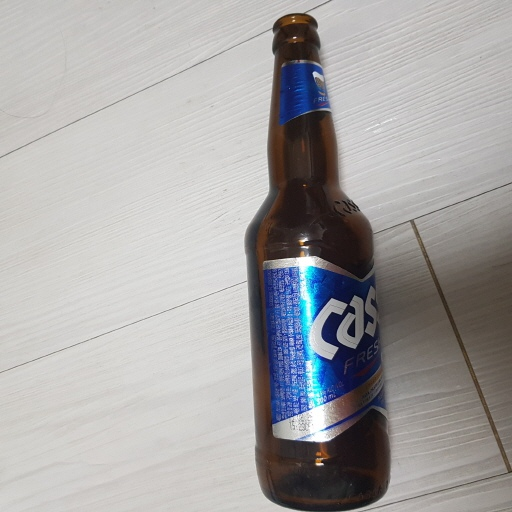Glass_1: (244, 7, 394, 512)
